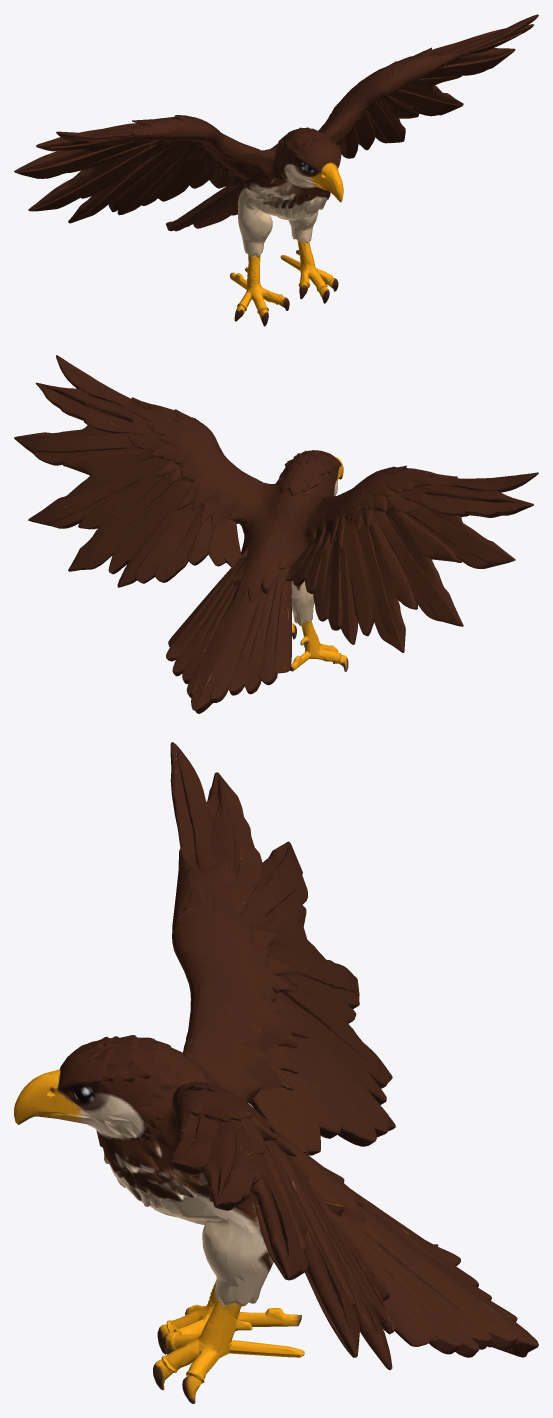
Rendered from hawk.1caed962.glb.
3 views of the same model, one above another, from view 1: azimuth 30°, elevation 25°; view 2: azimuth 150°, elevation 25°; view 3: azimuth 270°, elevation 25° (orthographic). The views are drawn at different scales.
Parts seen in each view (by area): view 1: output_unwrapped; view 2: output_unwrapped; view 3: output_unwrapped.
Part boxes in pixels (x1,y1,x2,y2): output_unwrapped: [14, 14, 538, 326]; output_unwrapped: [14, 355, 538, 713]; output_unwrapped: [14, 742, 538, 1403].
Bounding box in the file's own units: 1.89 × 0.8782 × 0.9647.
Materials: 1 (1 with a texture image).
